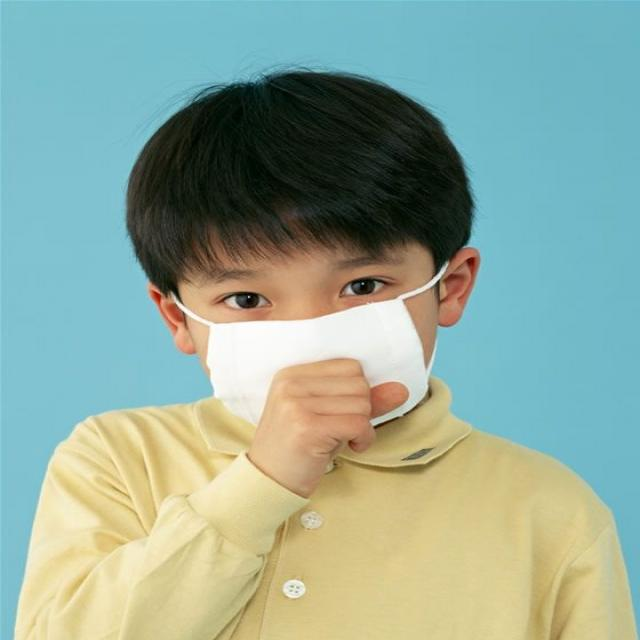mask: (203, 166, 426, 438)
